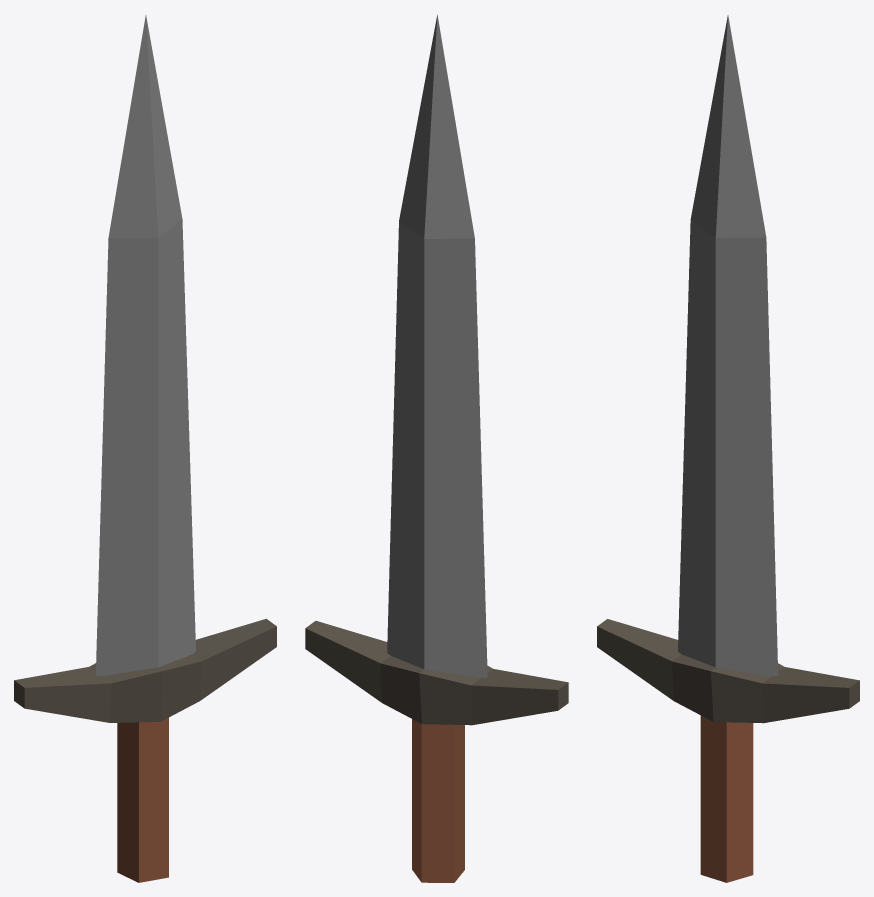
Rendered from Sword.fbx.
3 views of the same model, side by side, from view 1: azimuth 30°, elevation 25°; view 2: azimuth 150°, elevation 25°; view 3: azimuth 330°, elevation 25° (orthographic).
Parts seen in each view (by area): view 1: Cylinder; view 2: Cylinder; view 3: Cylinder.
Part boxes in pixels (bbox=[...]): Cylinder: bbox=[14, 15, 276, 882]; Cylinder: bbox=[305, 14, 568, 882]; Cylinder: bbox=[597, 15, 859, 882].
Size of the model in its own units: 39.2 by 9.51 by 127.
